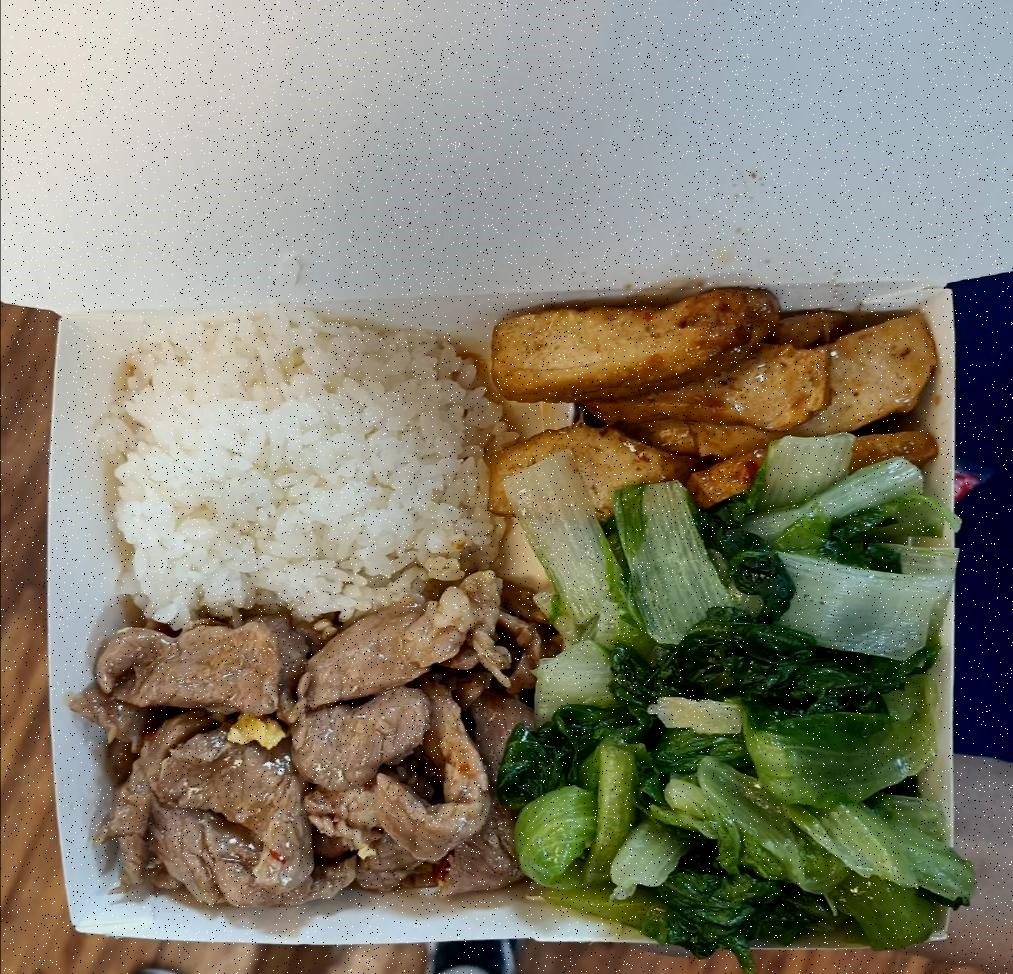big grilled chicken leg: (23, 258, 989, 963)
big herbal chicken leg: (108, 326, 491, 608)
braised fish fillet: (523, 298, 935, 505), (561, 720, 950, 934), (553, 513, 947, 721)
braised pork: (78, 616, 549, 917)
